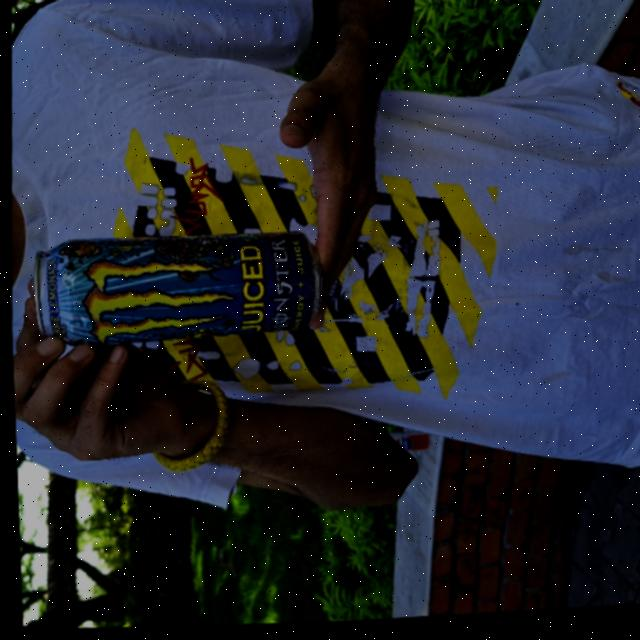Monster Aussie Lemonade: (25, 213, 321, 361)
